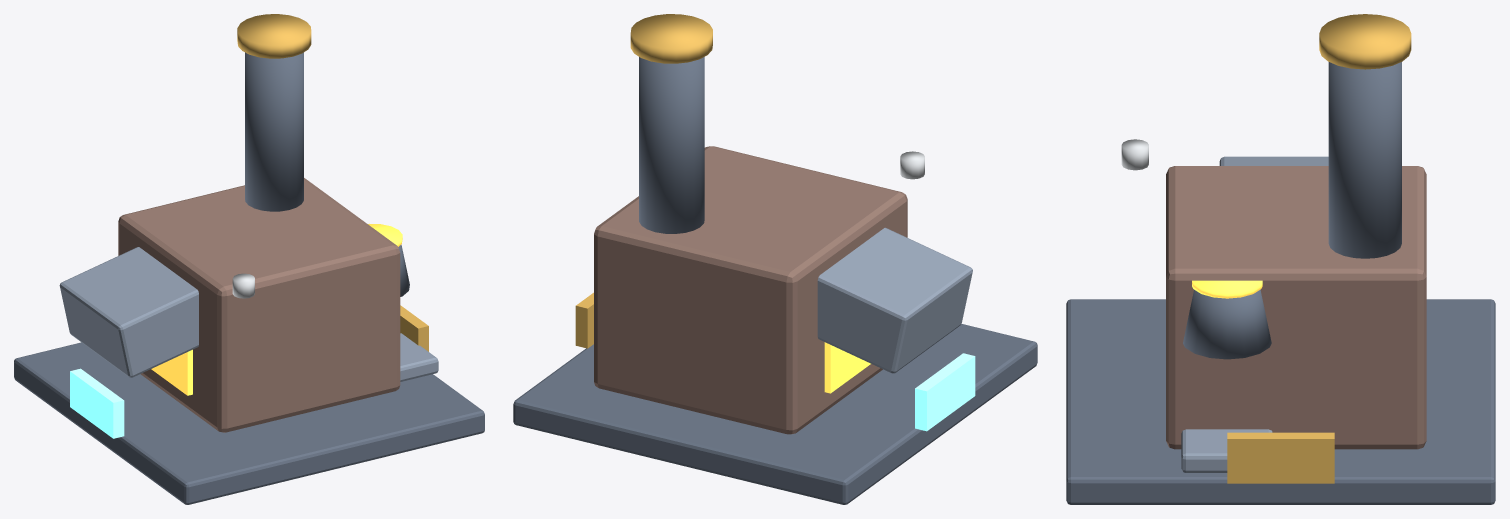
The model's file is fundidora.glb.
The picture shows the model from 3 angles, left to right: view 1: azimuth 30°, elevation 25°; view 2: azimuth 150°, elevation 25°; view 3: azimuth 270°, elevation 25°; orthographic projection. The views are drawn at different scales.
Visible parts, largest first — view 1: horno, base, tolva, chimenea, aro_chimenea, puerto_entrada, molde_salida, boca_brasa, puerto_salida, luz_estado; view 2: horno, base, tolva, chimenea, aro_chimenea, puerto_entrada, boca_brasa, puerto_salida, luz_estado; view 3: horno, base, chimenea, puerto_salida, cuba, aro_chimenea, molde_salida, brasa, tolva, luz_estado.
Part boxes in pixels (bbox=[...]): horno: bbox=[118, 178, 400, 432]; base: bbox=[14, 342, 484, 504]; tolva: bbox=[59, 247, 198, 377]; chimenea: bbox=[245, 52, 303, 211]; aro_chimenea: bbox=[237, 14, 311, 58]; puerto_entrada: bbox=[70, 368, 124, 438]; molde_salida: bbox=[400, 333, 438, 381]; boca_brasa: bbox=[151, 349, 192, 395]; puerto_salida: bbox=[400, 305, 428, 351]; luz_estado: bbox=[232, 273, 254, 298]; horno: bbox=[594, 146, 907, 434]; base: bbox=[513, 324, 1037, 504]; tolva: bbox=[817, 227, 972, 373]; chimenea: bbox=[639, 57, 704, 233]; aro_chimenea: bbox=[630, 14, 712, 63]; puerto_entrada: bbox=[915, 353, 975, 431]; boca_brasa: bbox=[824, 342, 870, 393]; puerto_salida: bbox=[575, 292, 593, 348]; luz_estado: bbox=[900, 151, 924, 179]; horno: bbox=[1166, 166, 1426, 449]; base: bbox=[1066, 299, 1495, 504]; chimenea: bbox=[1328, 62, 1401, 258]; puerto_salida: bbox=[1227, 432, 1334, 483]; cuba: bbox=[1183, 289, 1271, 359]; aro_chimenea: bbox=[1319, 14, 1411, 69]; molde_salida: bbox=[1181, 429, 1272, 472]; brasa: bbox=[1192, 280, 1262, 298]; tolva: bbox=[1219, 156, 1328, 165]; luz_estado: bbox=[1121, 139, 1148, 170].
Size of the model in its own units: 2.94 by 3.01 by 2.8.
